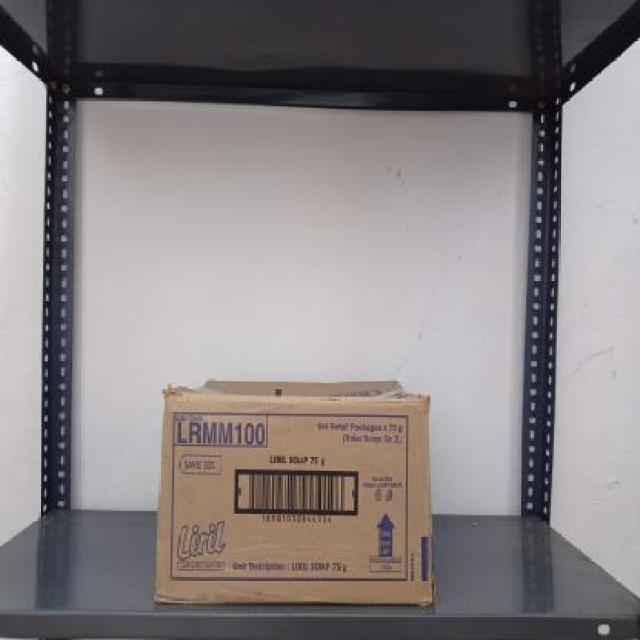box: (159, 394, 436, 608)
